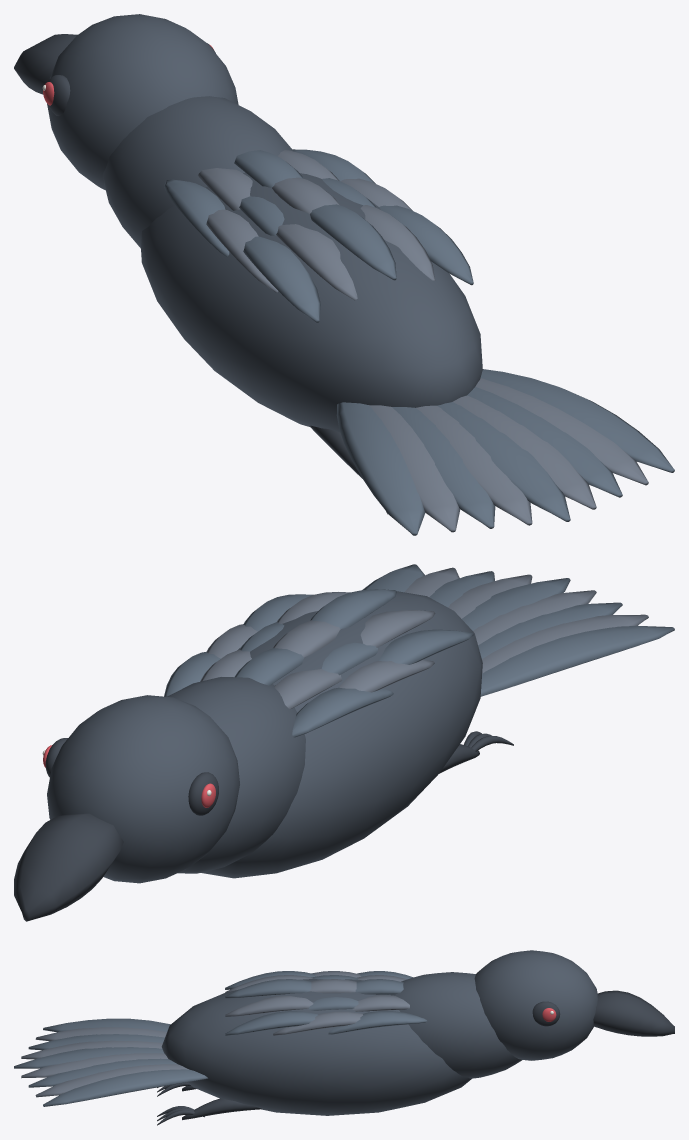
Rendered from body.glb.
3 views of the same model, one above another, from view 1: azimuth 30°, elevation 25°; view 2: azimuth 150°, elevation 25°; view 3: azimuth 270°, elevation 25° (orthographic). The views are drawn at different scales.
Visible parts, largest first — view 1: body-0, body-1, body-2, body-3; view 2: body-0, body-1, body-2, body-3; view 3: body-0, body-1, body-2, body-3.
Boxes of the visible parts, left/top/right/bottom form: body-0: left=47, top=14, right=482, bottom=432; body-1: left=164, top=149, right=674, bottom=535; body-2: left=198, top=150, right=648, bottom=532; body-3: left=14, top=34, right=388, bottom=514; body-0: left=47, top=589, right=482, bottom=883; body-1: left=164, top=564, right=674, bottom=737; body-2: left=200, top=567, right=648, bottom=709; body-3: left=14, top=731, right=513, bottom=921; body-0: left=161, top=950, right=597, bottom=1115; body-1: left=14, top=971, right=426, bottom=1106; body-2: left=21, top=971, right=409, bottom=1097; body-3: left=157, top=990, right=674, bottom=1125.
Size of the model in its own units: 0.8375 by 0.745 by 2.91.
